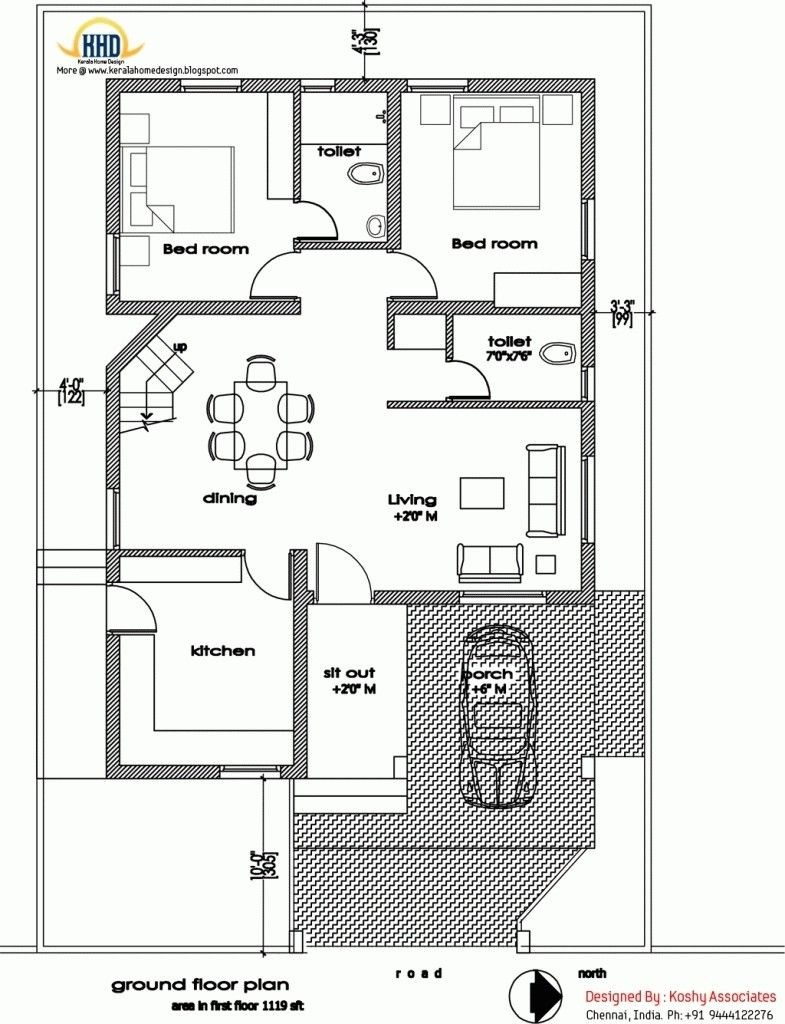door: (313, 537, 377, 599), (245, 248, 293, 300), (240, 556, 292, 603), (394, 250, 441, 299), (451, 358, 495, 402), (302, 199, 343, 241)
restroom: (294, 79, 401, 247)
room: (292, 399, 595, 604), (386, 77, 595, 313), (106, 78, 301, 315), (107, 550, 307, 780)
window: (580, 454, 596, 544), (460, 590, 547, 605), (408, 77, 468, 94), (580, 198, 595, 259), (104, 233, 119, 293), (220, 764, 281, 778), (181, 79, 241, 93), (581, 365, 596, 401), (299, 78, 335, 92)
